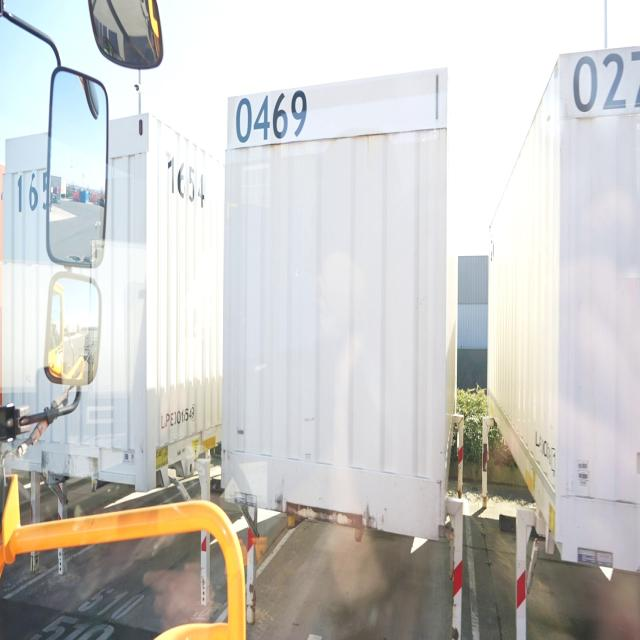Code: (234, 88, 310, 150), (163, 150, 207, 213)
